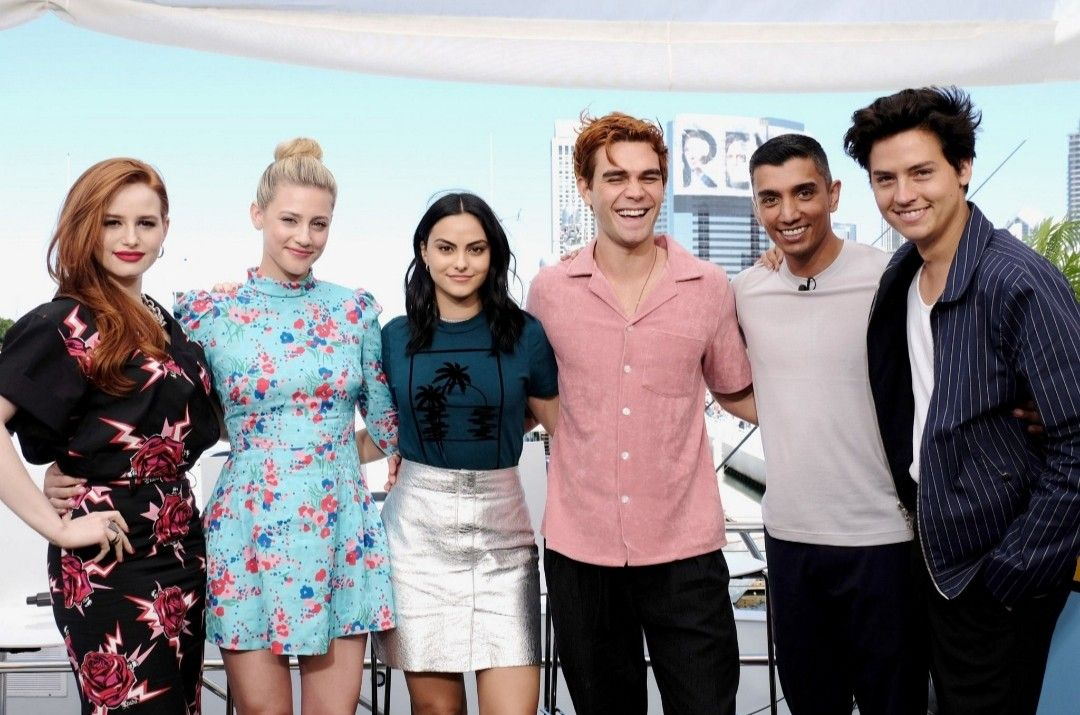person: (826, 48, 1003, 332), (34, 160, 215, 424), (194, 138, 362, 404), (516, 136, 714, 355), (376, 175, 521, 443), (712, 125, 888, 335)
